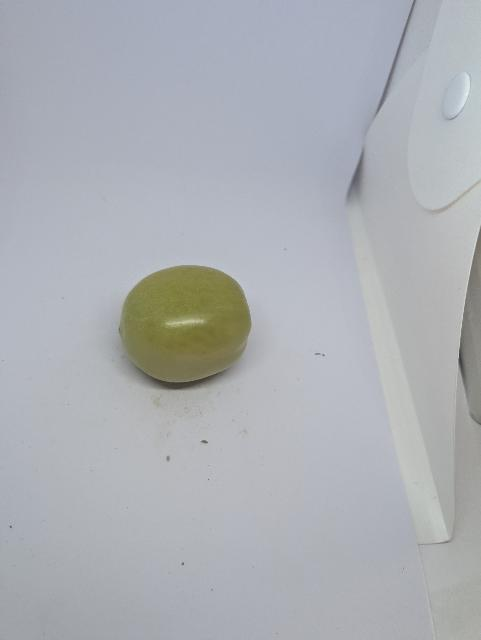green: (117, 262, 254, 386)
